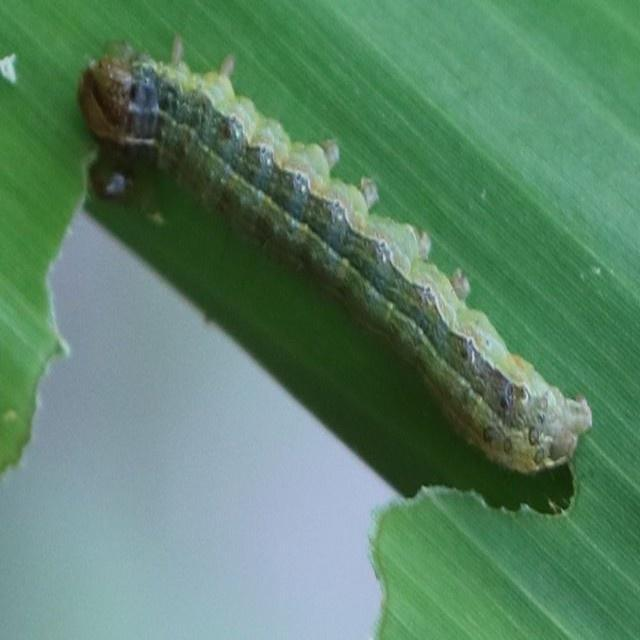Plaga: (68, 31, 595, 474)
